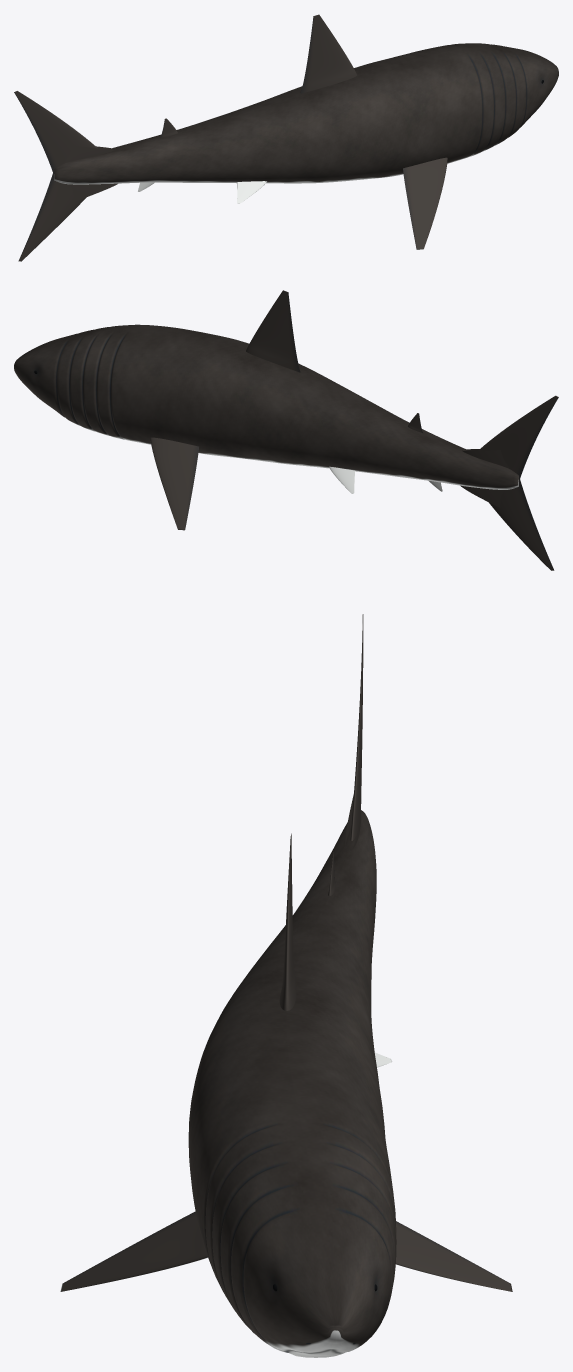
The model's file is basking_shark.glb.
3 renders of one model, top to bottom at view 1: azimuth 30°, elevation 25°; view 2: azimuth 150°, elevation 25°; view 3: azimuth 270°, elevation 25°, orthographic. The views are drawn at different scales.
Parts seen in each view (by area): view 1: BaskingShark_Body, BaskingShark_Fins; view 2: BaskingShark_Body, BaskingShark_Fins; view 3: BaskingShark_Body, BaskingShark_Fins.
Part boxes in pixels (x1,y1,x2,y2): BaskingShark_Body: (54,43,558,184); BaskingShark_Fins: (14,14,447,261); BaskingShark_Body: (14,324,518,489); BaskingShark_Fins: (150,290,558,570); BaskingShark_Body: (188,810,396,1357); BaskingShark_Fins: (60,614,512,1291).
Bounding box in the file's own units: 7 × 2.55 × 2.55.
3 materials, 1 textured.
